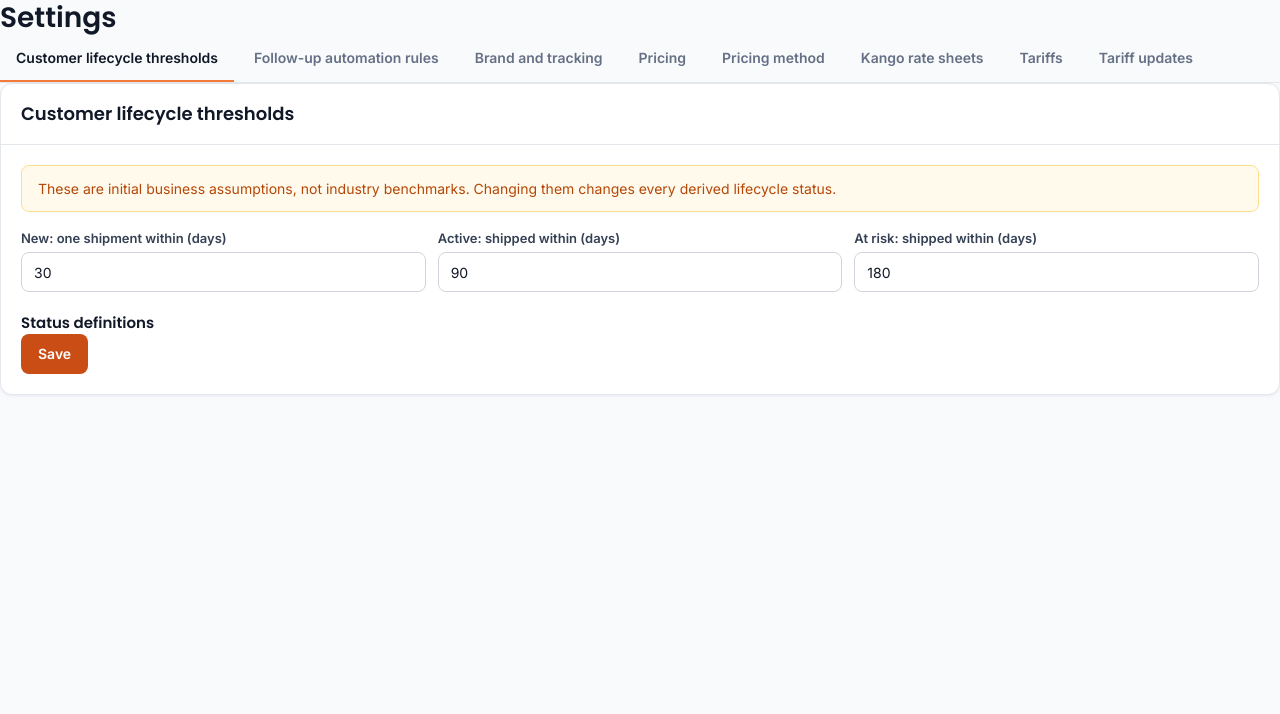
Test: Settings › Tariff updates › disables every decision for a user who is not an approver
Expected: the heading "Settings" is shown, [0, 0, 117, 36]
Click the tab "Tariff updates" at coordinates (1146, 59), box [1083, 36, 1209, 82]
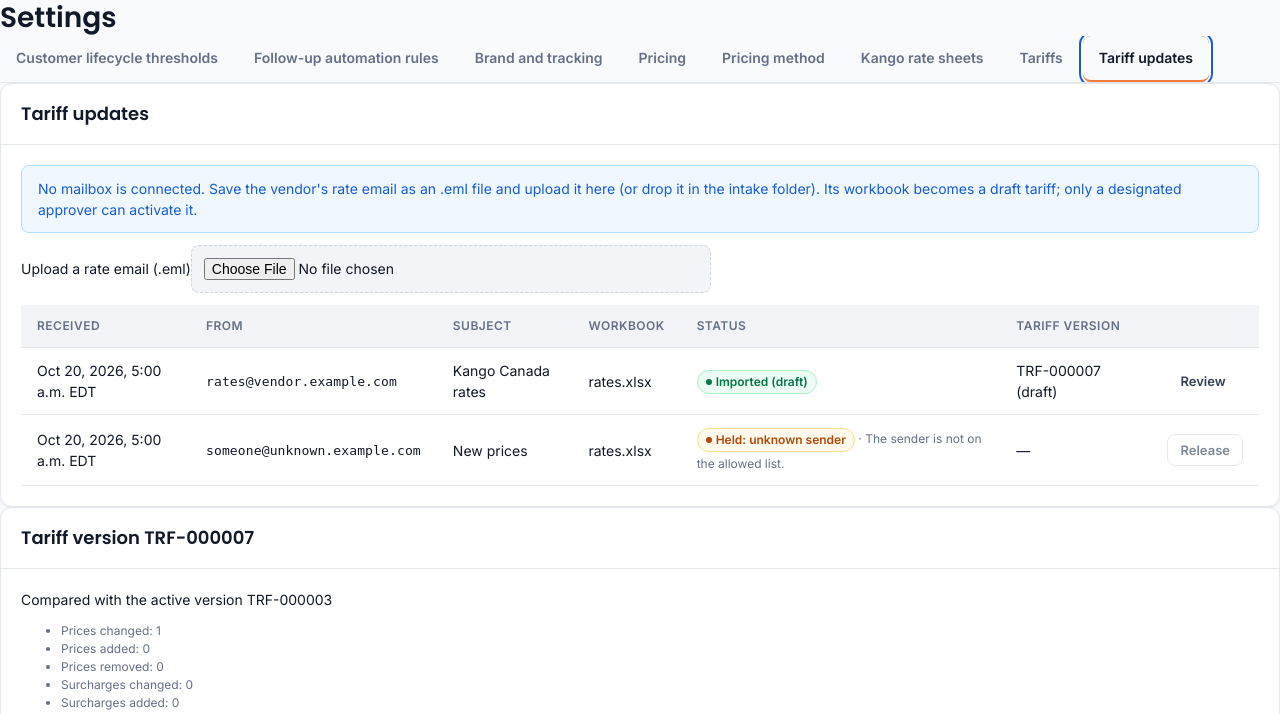
Now the text "Compared with the active version TRF-000003" is shown, box [21, 591, 332, 608]
Now the button with aria-label "Release: New prices" is disabled, box [1168, 434, 1243, 466]
